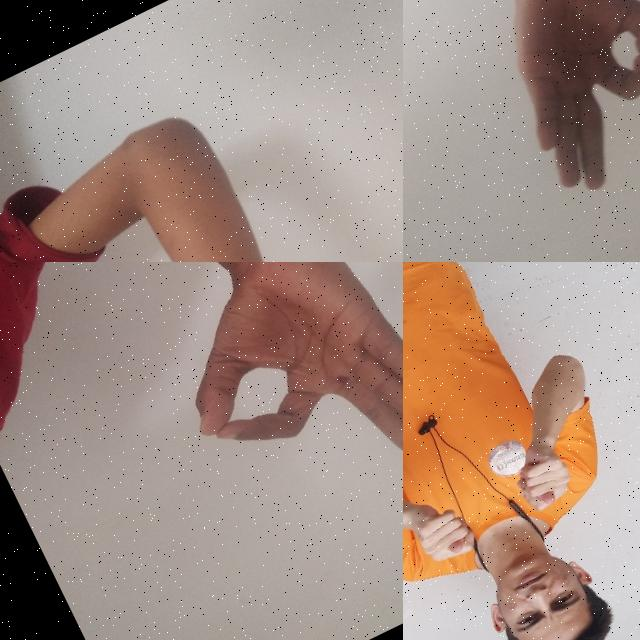Dulya: (492, 420, 588, 525), (403, 474, 487, 581)
Okay: (135, 262, 403, 558), (452, 0, 640, 214)
